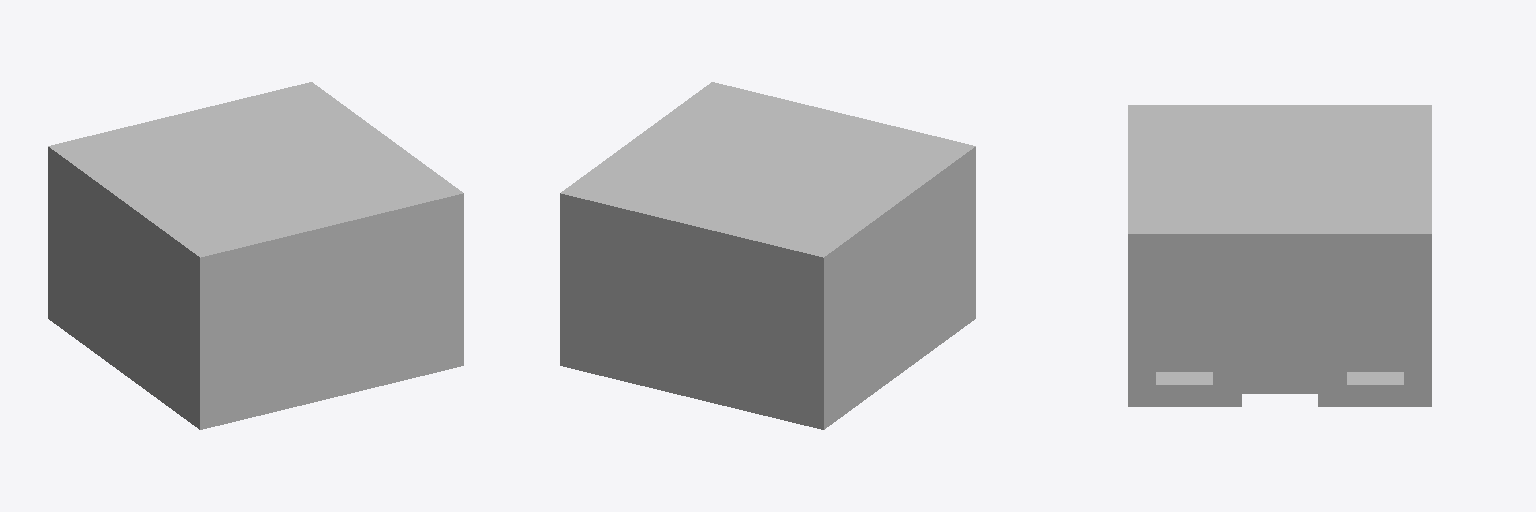
File: building_043.obj
The picture shows the model from 3 angles: view 1: azimuth 30°, elevation 25°; view 2: azimuth 150°, elevation 25°; view 3: azimuth 270°, elevation 25°; orthographic projection.
Parts seen in each view (by area): view 1: building_043; view 2: building_043; view 3: building_043.
Part boxes in pixels (bbox=[...]): building_043: bbox=[48, 82, 463, 429]; building_043: bbox=[560, 82, 975, 429]; building_043: bbox=[1128, 105, 1431, 406].
Size of the model in its own units: 1 by 0.625 by 1.